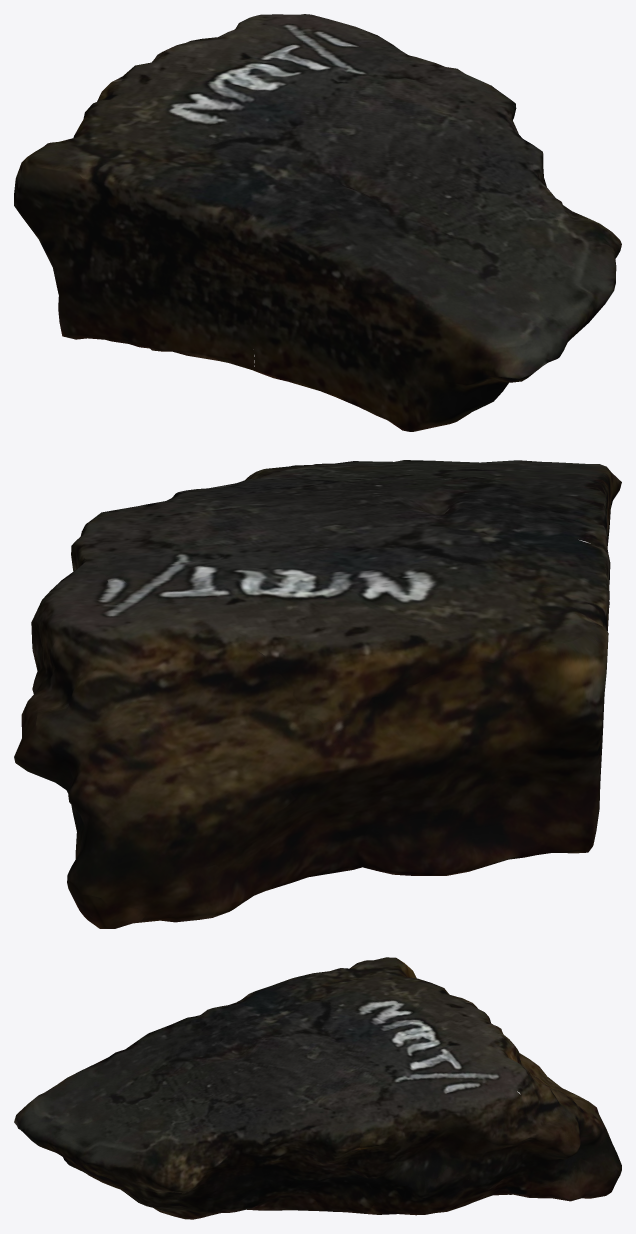
File: nmt.glb
The picture shows the model from 3 angles, top to bottom: view 1: azimuth 30°, elevation 25°; view 2: azimuth 150°, elevation 25°; view 3: azimuth 270°, elevation 25°; orthographic projection. The views are drawn at different scales.
Bounding box in the file's own units: 0.0284 × 0.0116 × 0.0427.
Materials: 1 (1 with a texture image).
